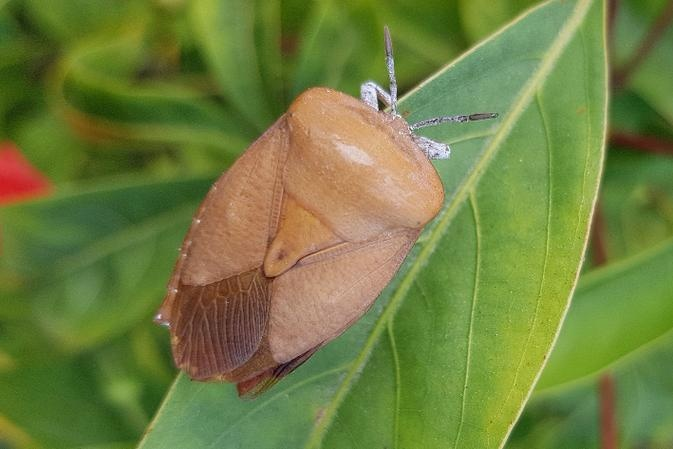Stink_Bug: (166, 50, 434, 374)
